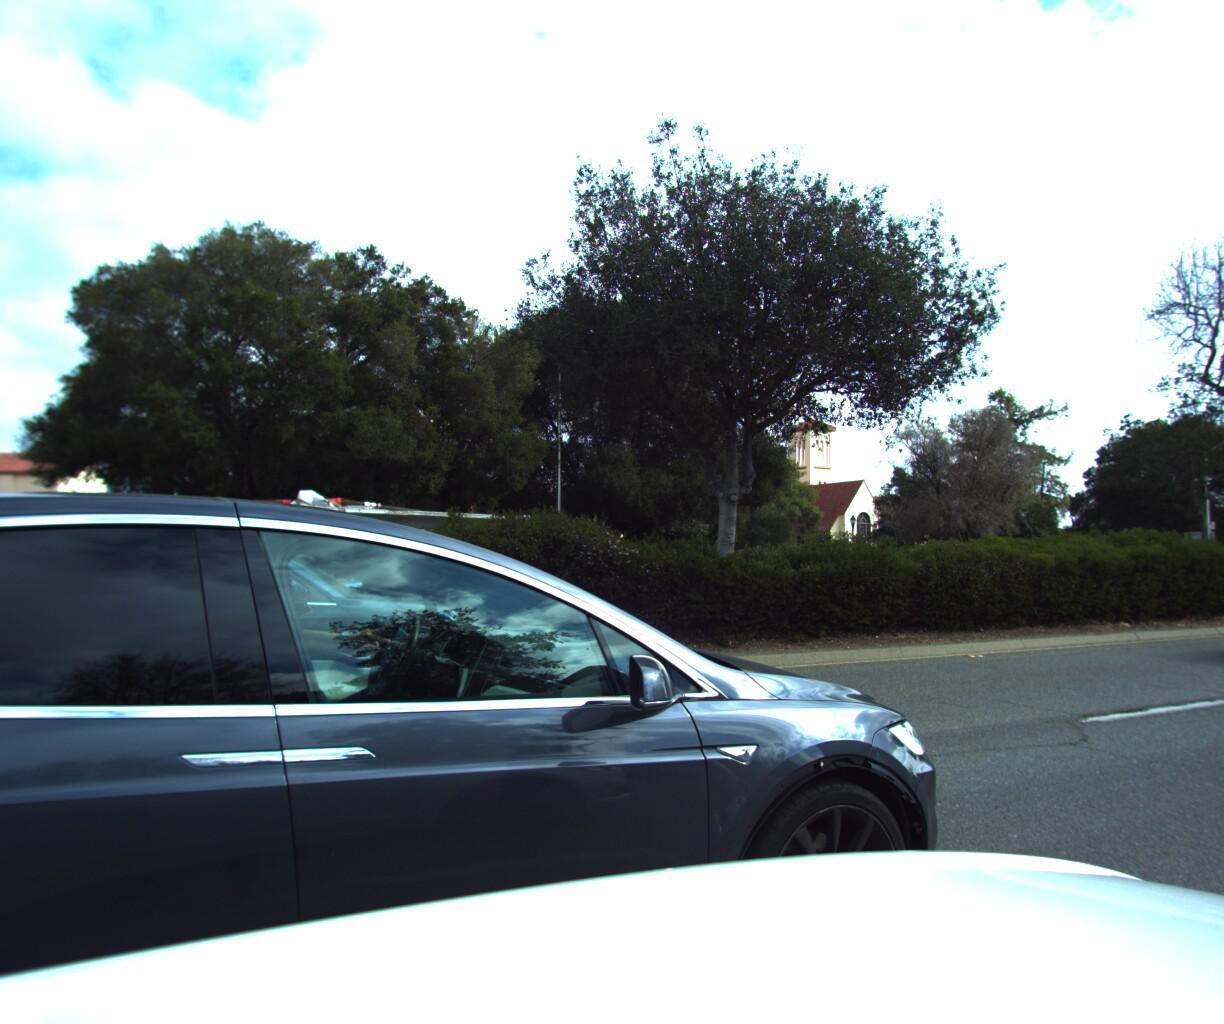car: (0, 317, 1072, 1024), (0, 464, 544, 868), (1218, 541, 1224, 671)
truck: (0, 380, 575, 649)
